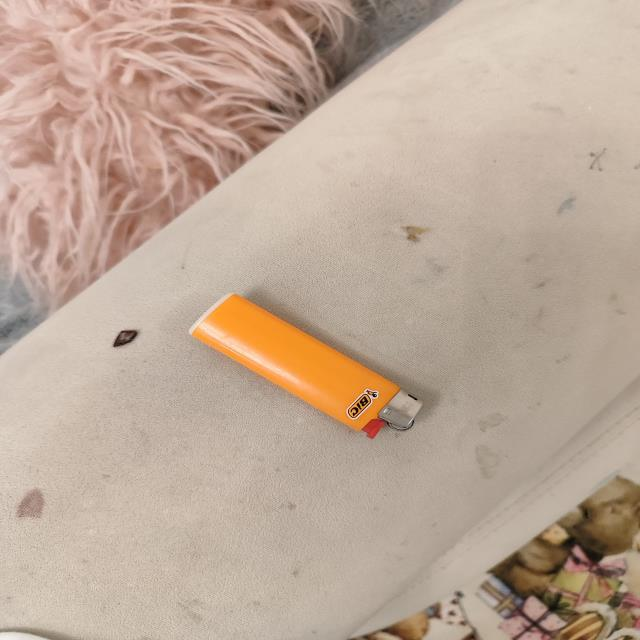lighter: (190, 294, 421, 437)
